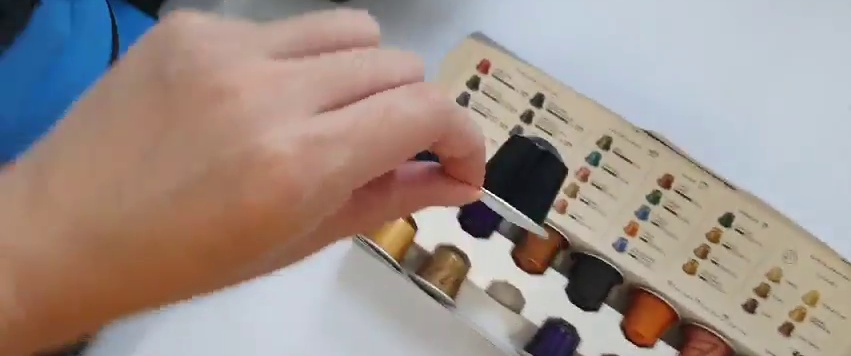capsule_10: (471, 131, 571, 240)
